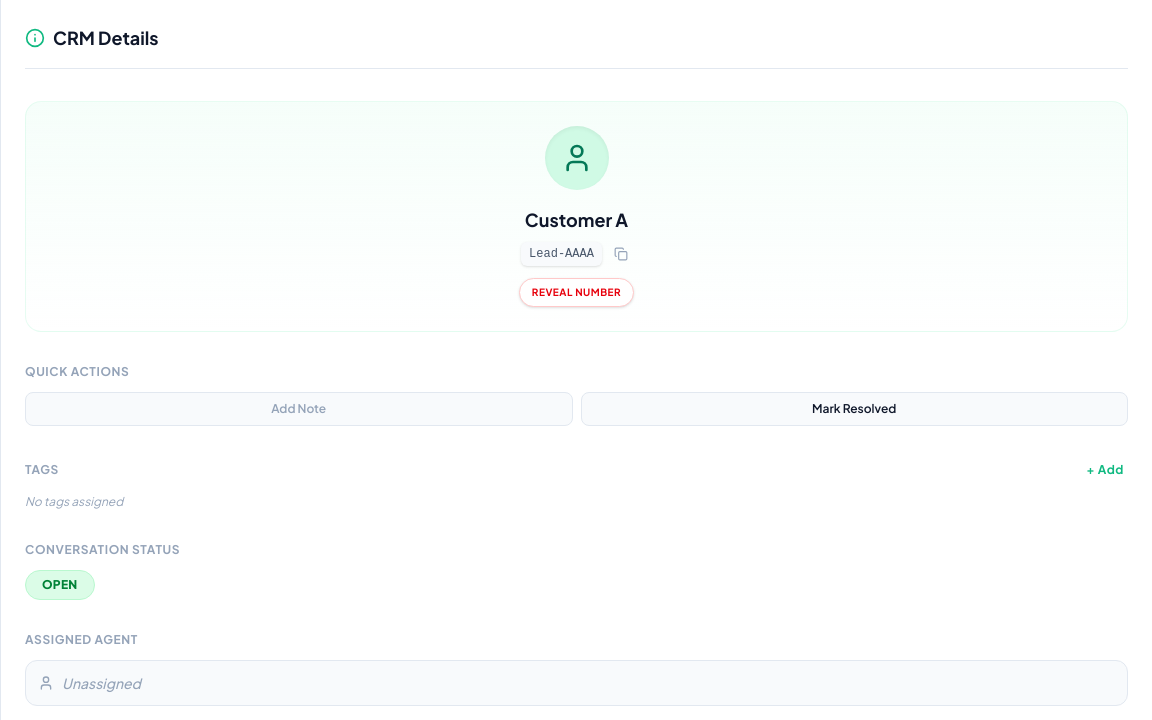
CrmSidebar Component - Quick Actions › asks for confirmation before marking resolved, and does nothing on cancel
This screenshot has width=1152, height=720.
Step 1. Click the button "Mark Resolved" → (854, 409), box [580, 392, 1128, 426]
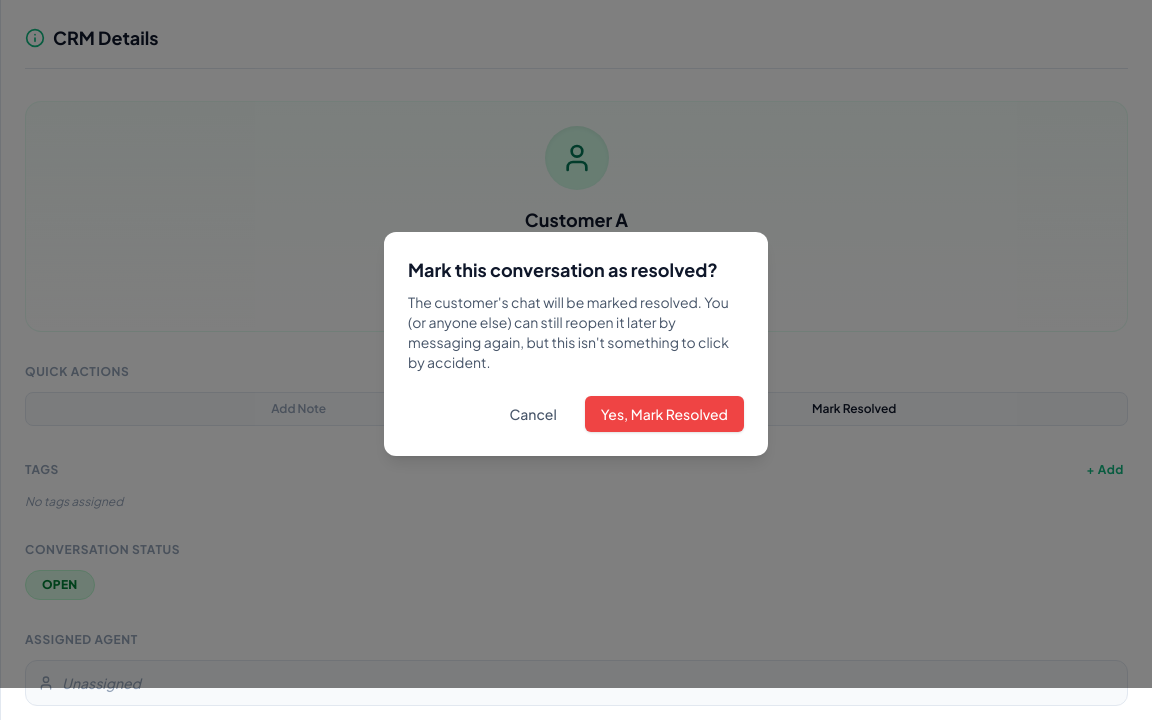
Now the heading "Mark this conversation as resolved?" is shown, box [408, 256, 744, 284]
Step 2. Click the button "Cancel" → (533, 414), box [494, 396, 573, 432]
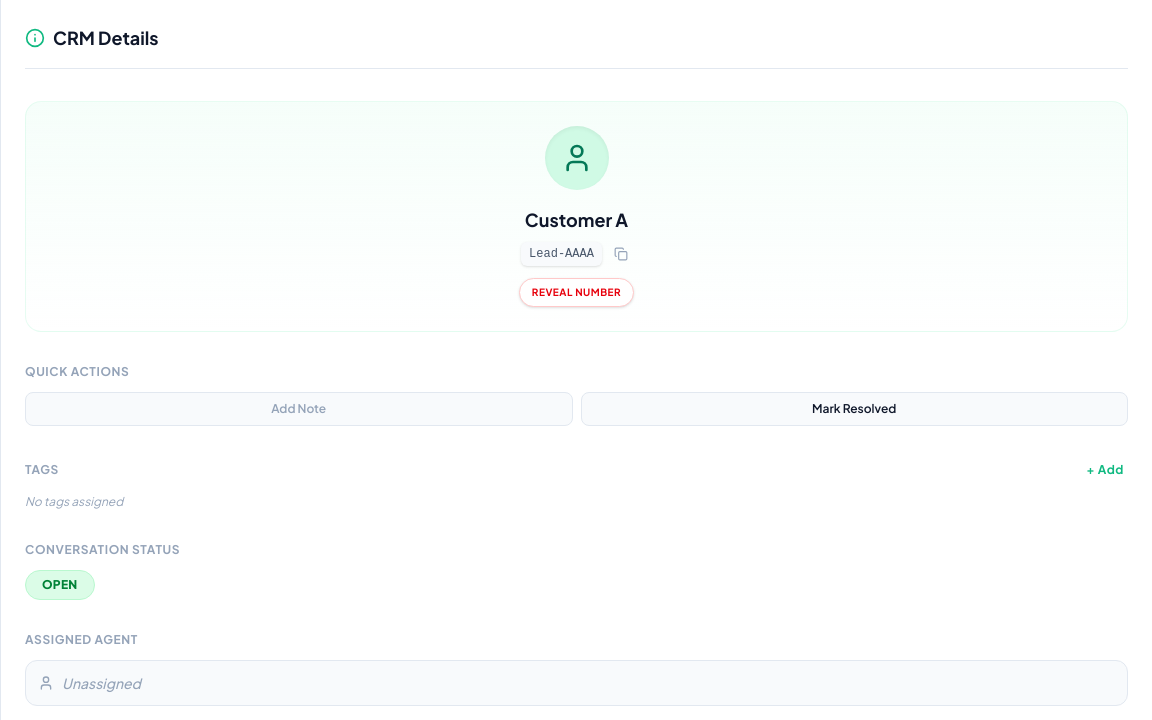
Now the heading "Mark this conversation as resolved" is gone
